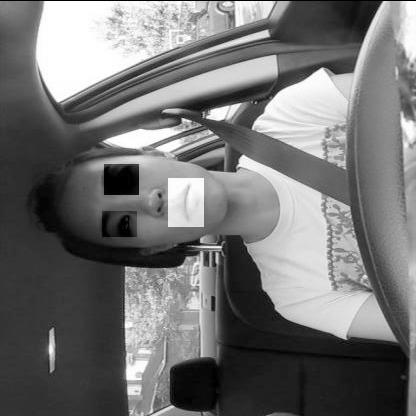seatbelt: (19, 121, 347, 272)
